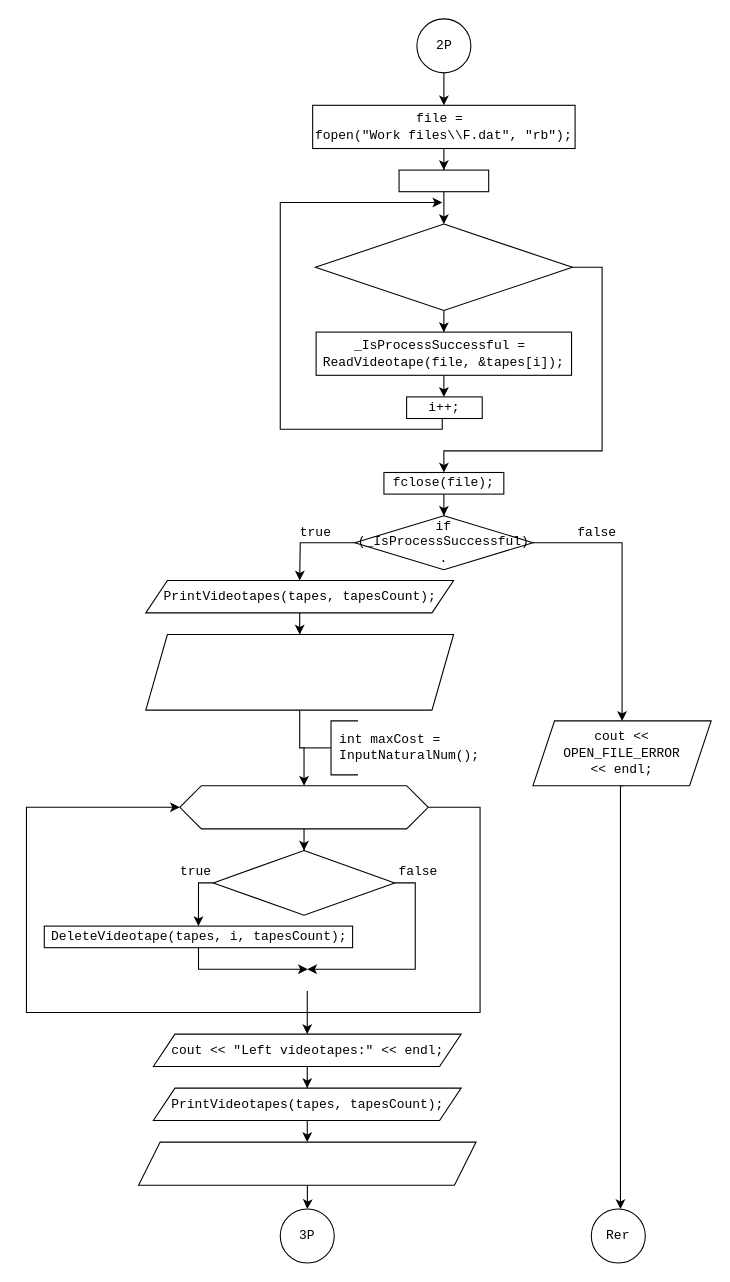
The diagram is 730 pixels wide and 1282 high, and some of its shapes have lost their labels. Each missing label, with the centre of its shape:
cout << "Input data for " << ADD_COUNT << " new videotapes:" << endl;: pixel 306 1163
cout << "Input the cost of videotape, which will not be exceeded:" << endl;: pixel 299 671
for (int i = tapesCount - 1; i >= 0; i--): pixel 303 807
i = 0;: pixel 443 180
if (tapes[i].cost > maxCost): pixel 303 882
while ((i < tapesCount) && _IsProcessSuccessful: pixel 443 266
